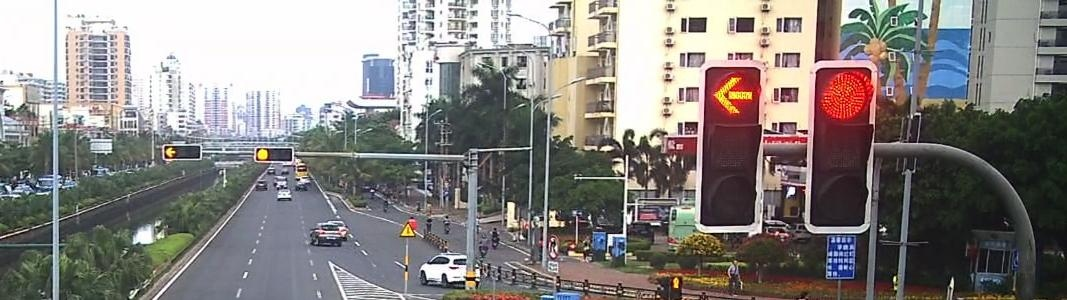red: (818, 70, 877, 120), (256, 147, 268, 162)
redleft: (712, 72, 756, 117), (164, 145, 177, 161)
redpeople: (670, 276, 684, 291)
